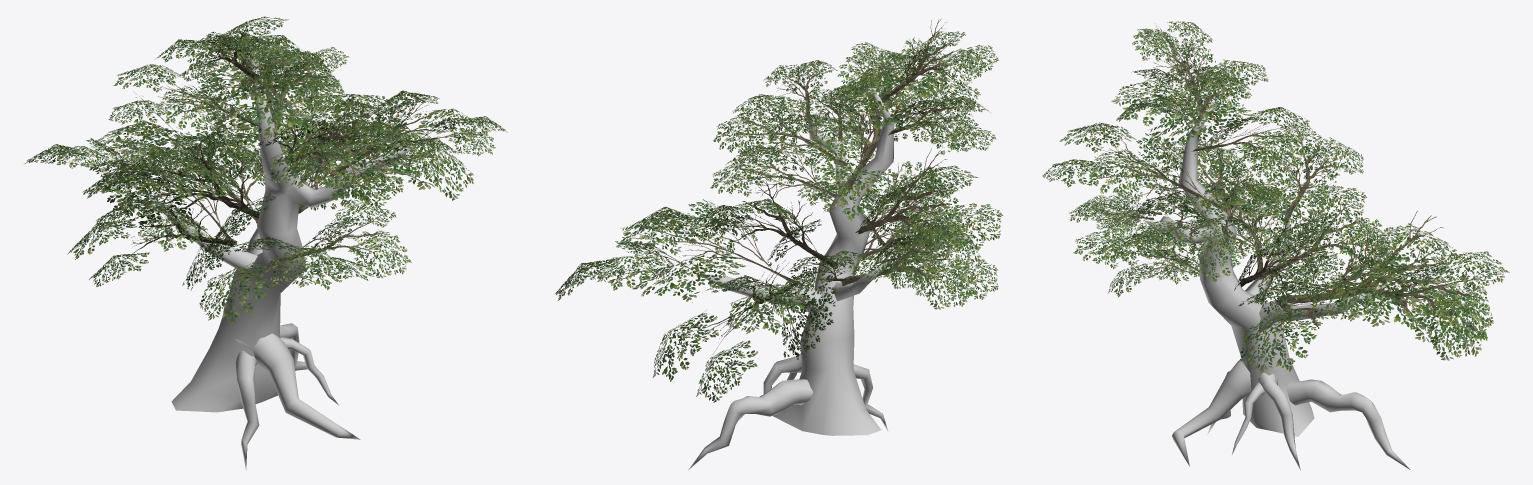
Rendered from Scene_Tree_ShuQiao_3.FBX.
3 views of the same model, side by side, from view 1: azimuth 30°, elevation 25°; view 2: azimuth 150°, elevation 25°; view 3: azimuth 270°, elevation 25° (orthographic). The views are drawn at different scales.
Parts seen in each view (by area): view 1: Scene_Tree_ShuQiao_3b, Scene_Tree_ShuQiao_3a; view 2: Scene_Tree_ShuQiao_3b, Scene_Tree_ShuQiao_3a; view 3: Scene_Tree_ShuQiao_3b, Scene_Tree_ShuQiao_3a.
Part boxes in pixels (left/top/right/bottom): Scene_Tree_ShuQiao_3b: left=25, top=16, right=507, bottom=324; Scene_Tree_ShuQiao_3a: left=146, top=32, right=418, bottom=470; Scene_Tree_ShuQiao_3b: left=555, top=18, right=1003, bottom=402; Scene_Tree_ShuQiao_3a: left=688, top=78, right=894, bottom=470; Scene_Tree_ShuQiao_3b: left=1042, top=21, right=1509, bottom=373; Scene_Tree_ShuQiao_3a: left=1144, top=86, right=1410, bottom=470.
Size of the model in its own units: 1663 by 1798 by 1927.
